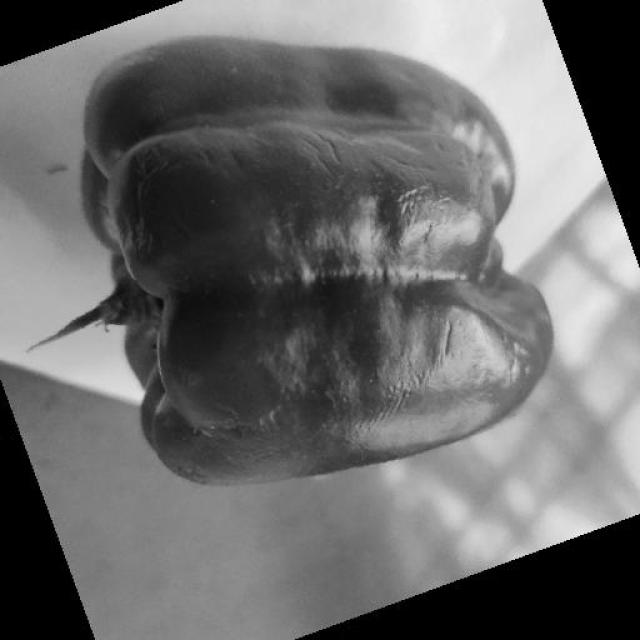Stale_Capsicum: (46, 71, 557, 493)
